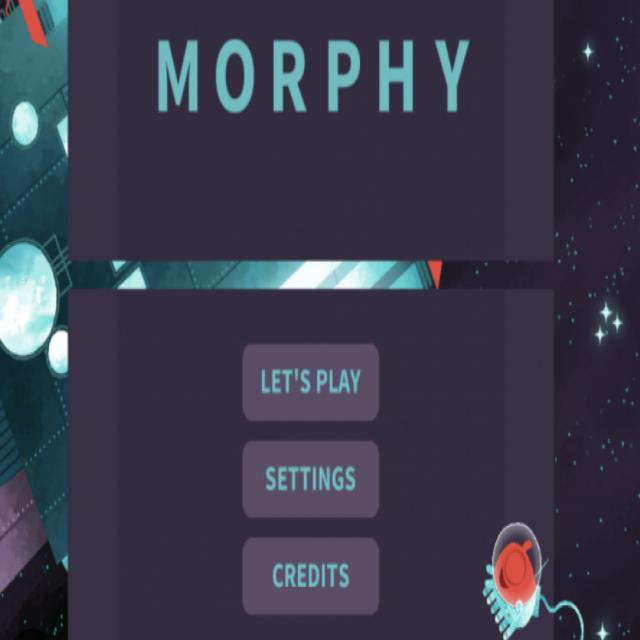Start-button: (241, 333, 386, 427)
